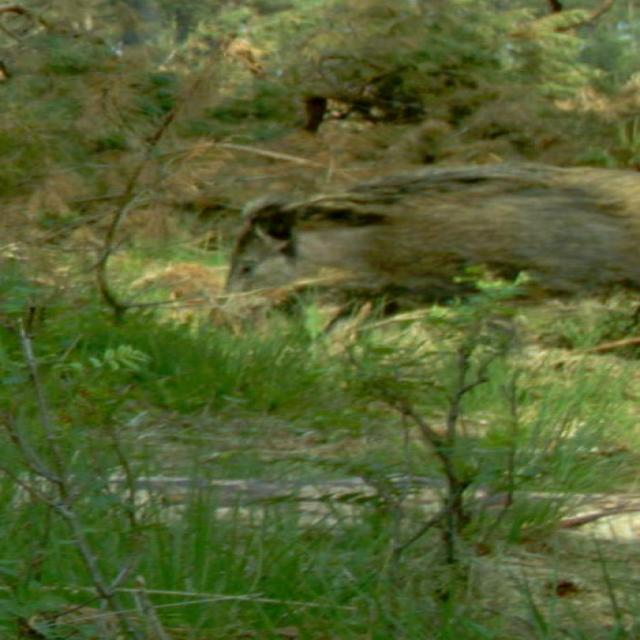pig: (167, 146, 640, 350)
